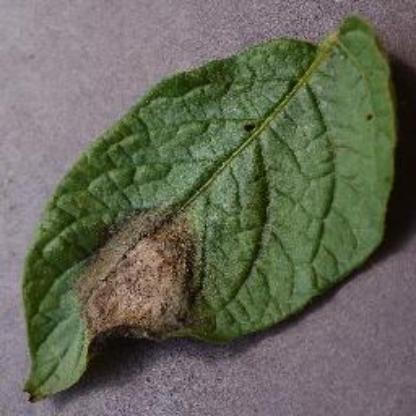Late-Blight: (15, 11, 416, 409)
